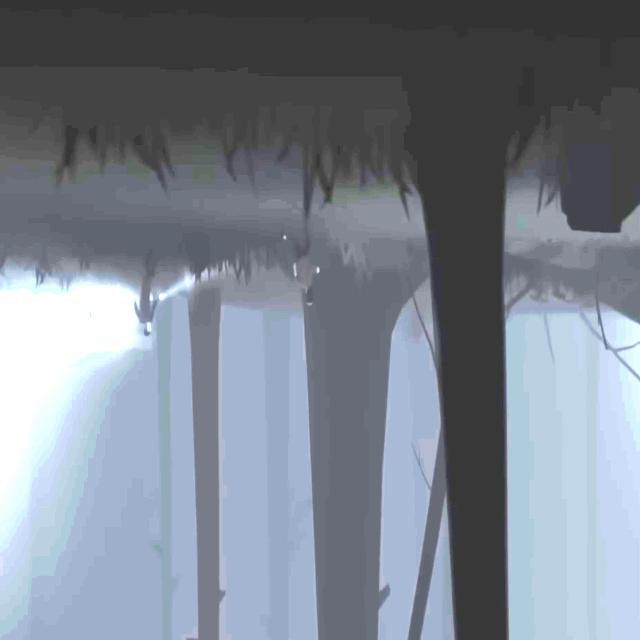boy: (282, 229, 320, 303)
